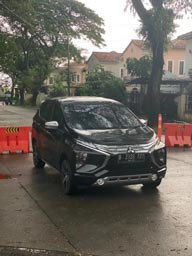plat: (117, 152, 148, 159)
